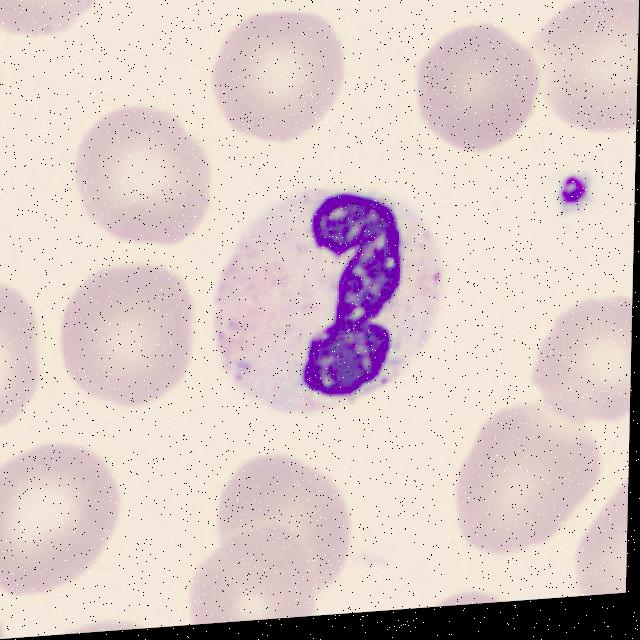neutrophil: (207, 169, 447, 427)
platelets: (549, 168, 596, 224)
rbc: (448, 376, 605, 565), (54, 256, 208, 431), (401, 0, 547, 164), (73, 91, 212, 258), (206, 453, 352, 607), (202, 0, 347, 152), (507, 0, 639, 154), (0, 446, 122, 598), (528, 271, 633, 437), (182, 520, 328, 626), (567, 458, 629, 597), (0, 261, 42, 437), (0, 0, 111, 62), (400, 566, 523, 609), (36, 619, 171, 636)
